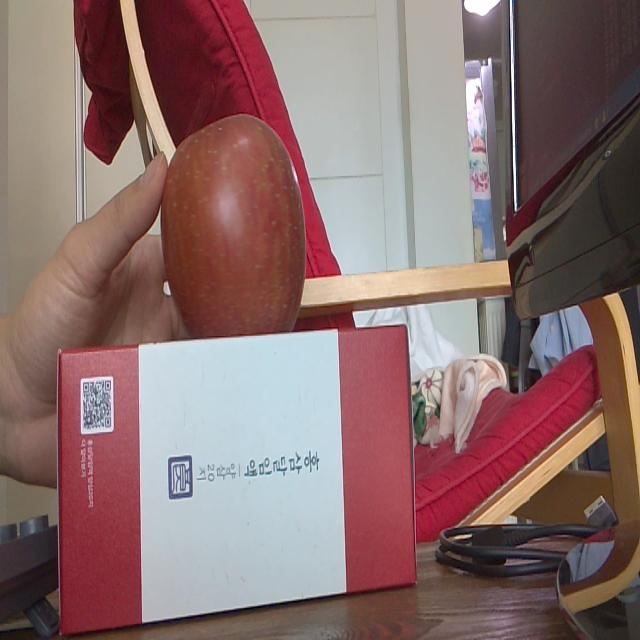apple: (163, 107, 309, 336)
